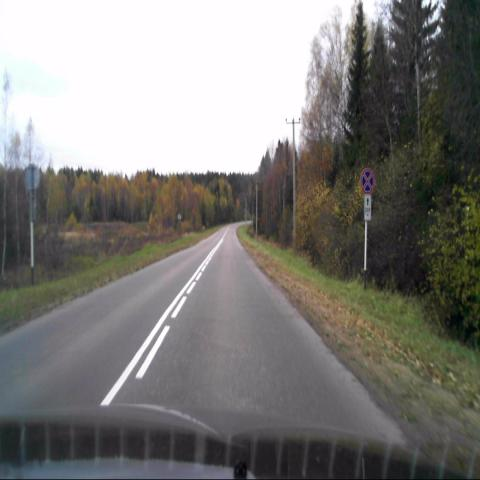3_27: (360, 167, 375, 194)
8_2_2: (364, 194, 371, 221)
